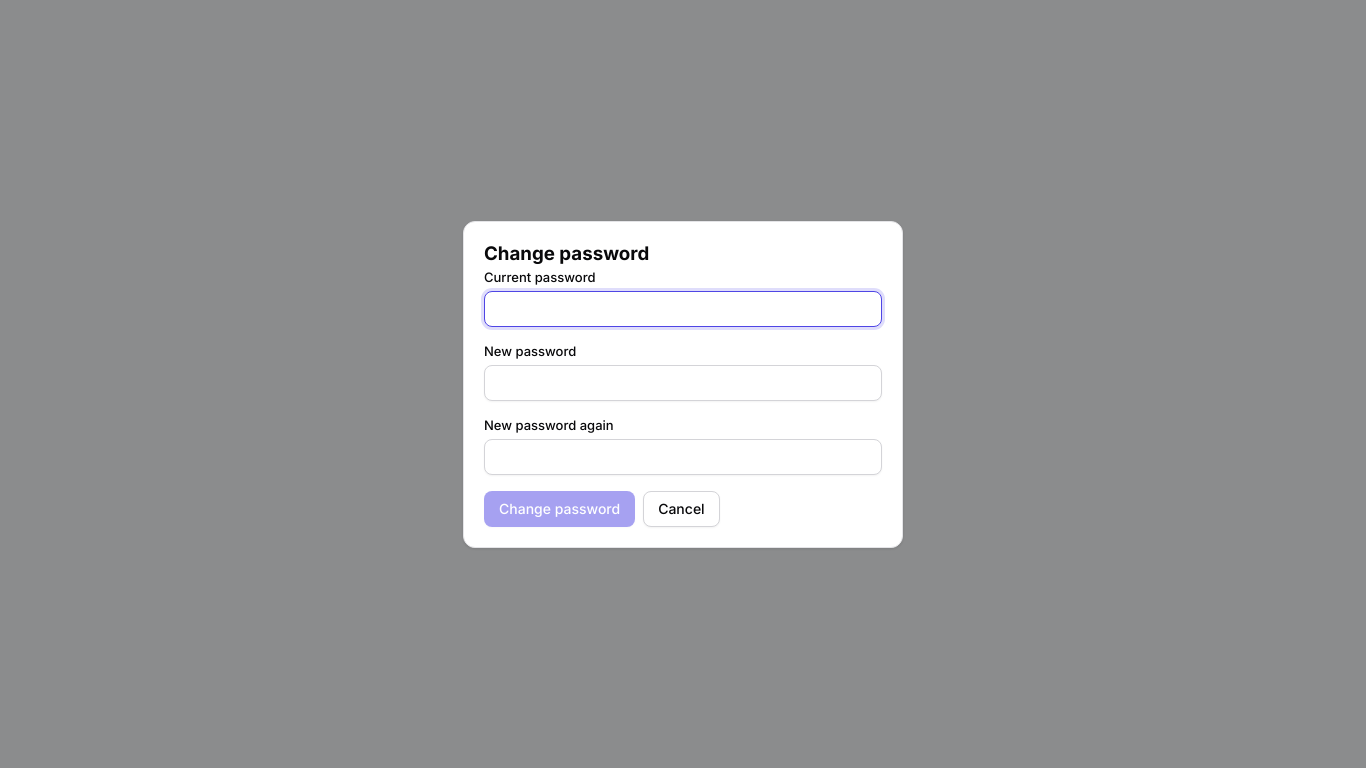
a wrong current password is shown and nothing else happens
The image size is (1366, 768).
Type "old-password-1" into the password field labelled "Current password" at {"x": 683, "y": 308}, box [484,290,882,326]
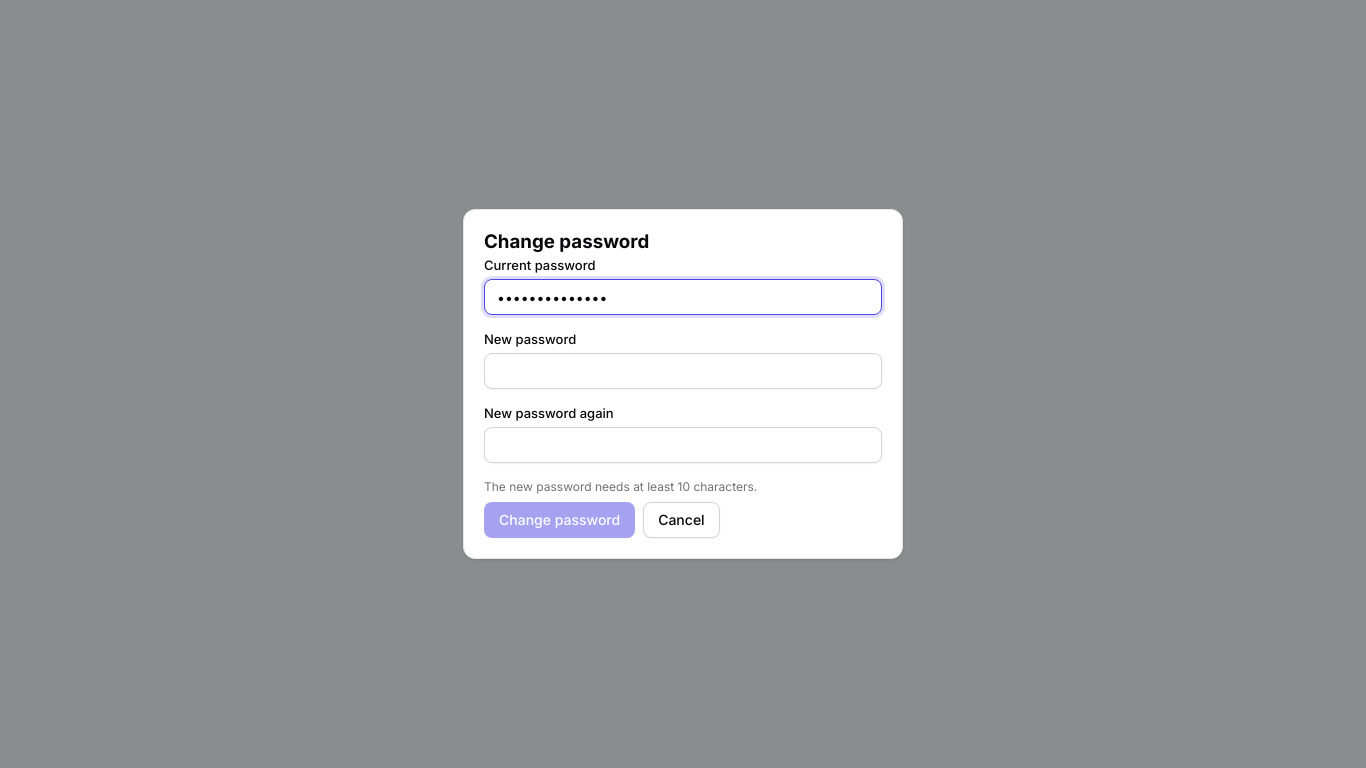
Type "new-password-1" into the password field labelled "New password" at {"x": 683, "y": 371}, box [484,353,882,389]
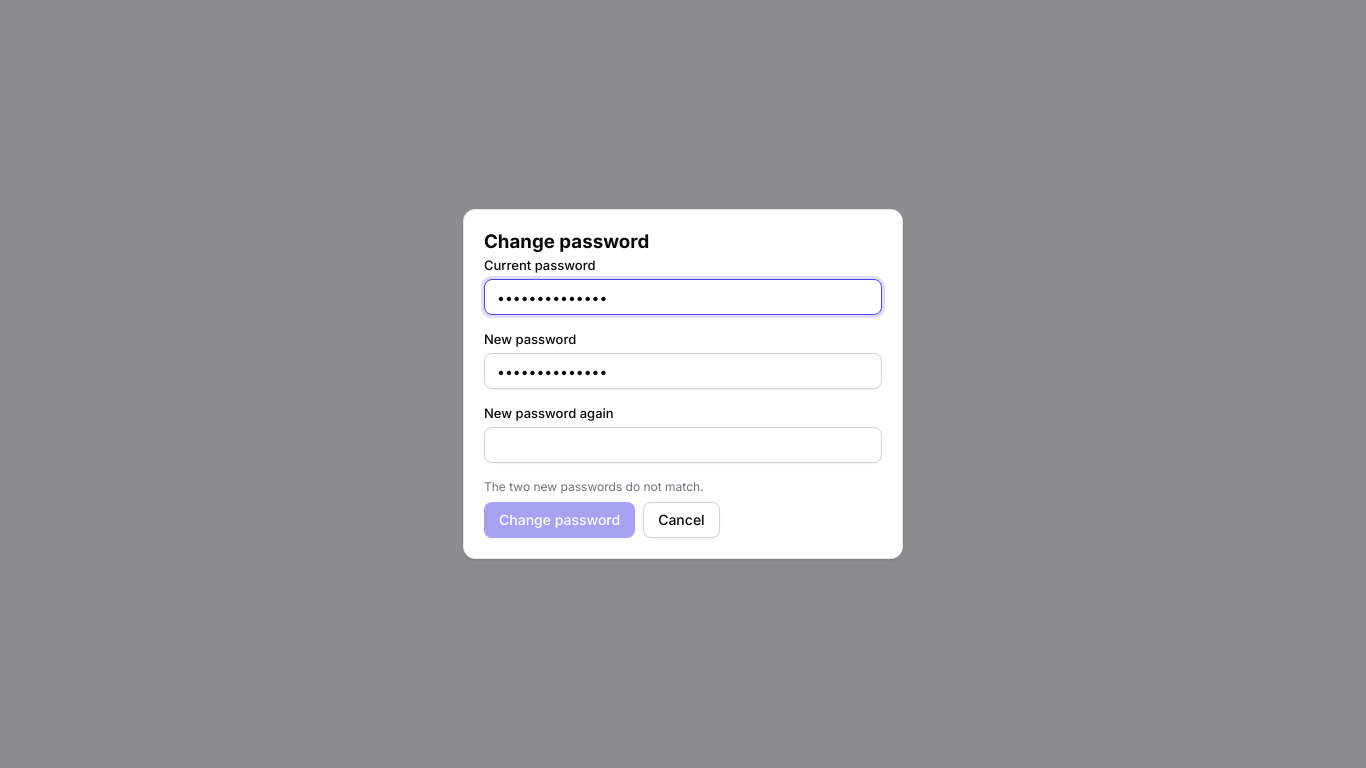
Type "new-password-1" into the password field labelled "New password again" at {"x": 683, "y": 445}, box [484,427,882,463]
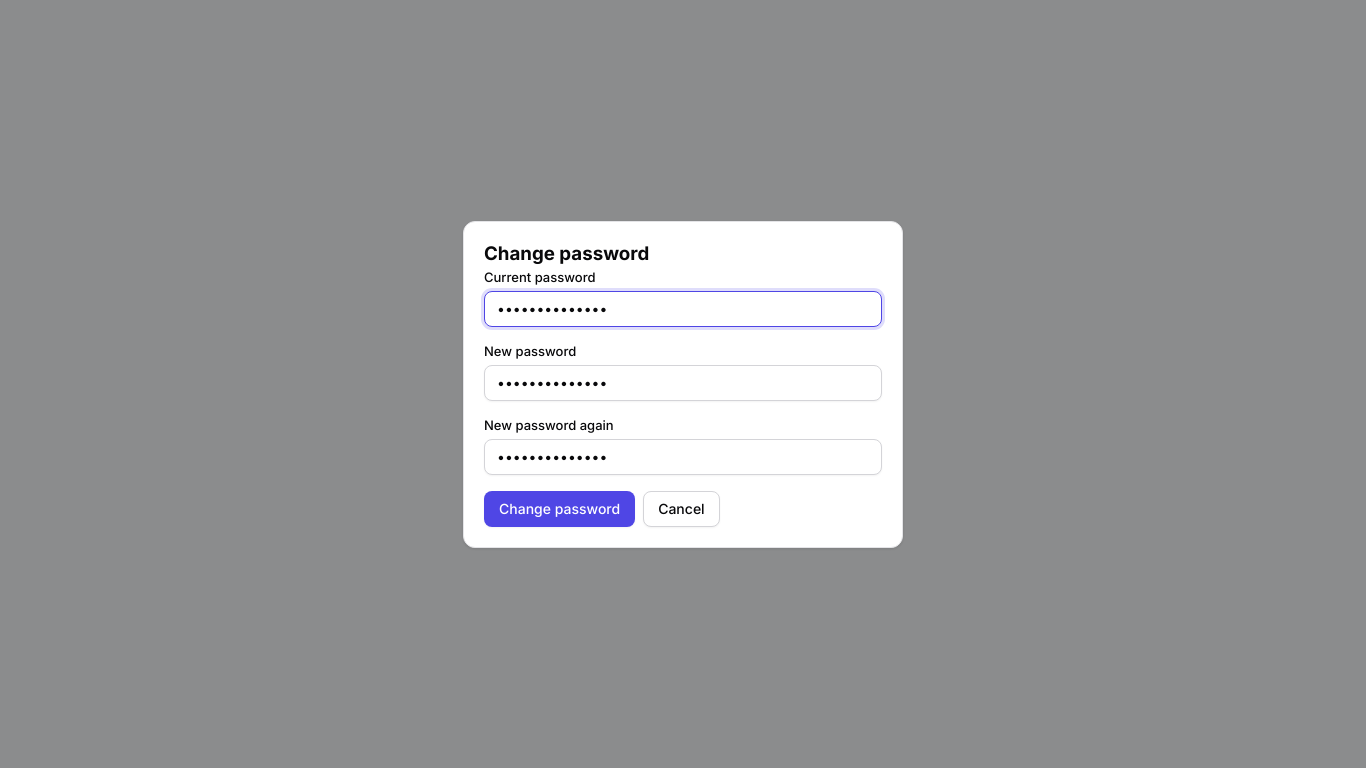
Click the button "Change password" at {"x": 560, "y": 508}, box [484,490,635,526]
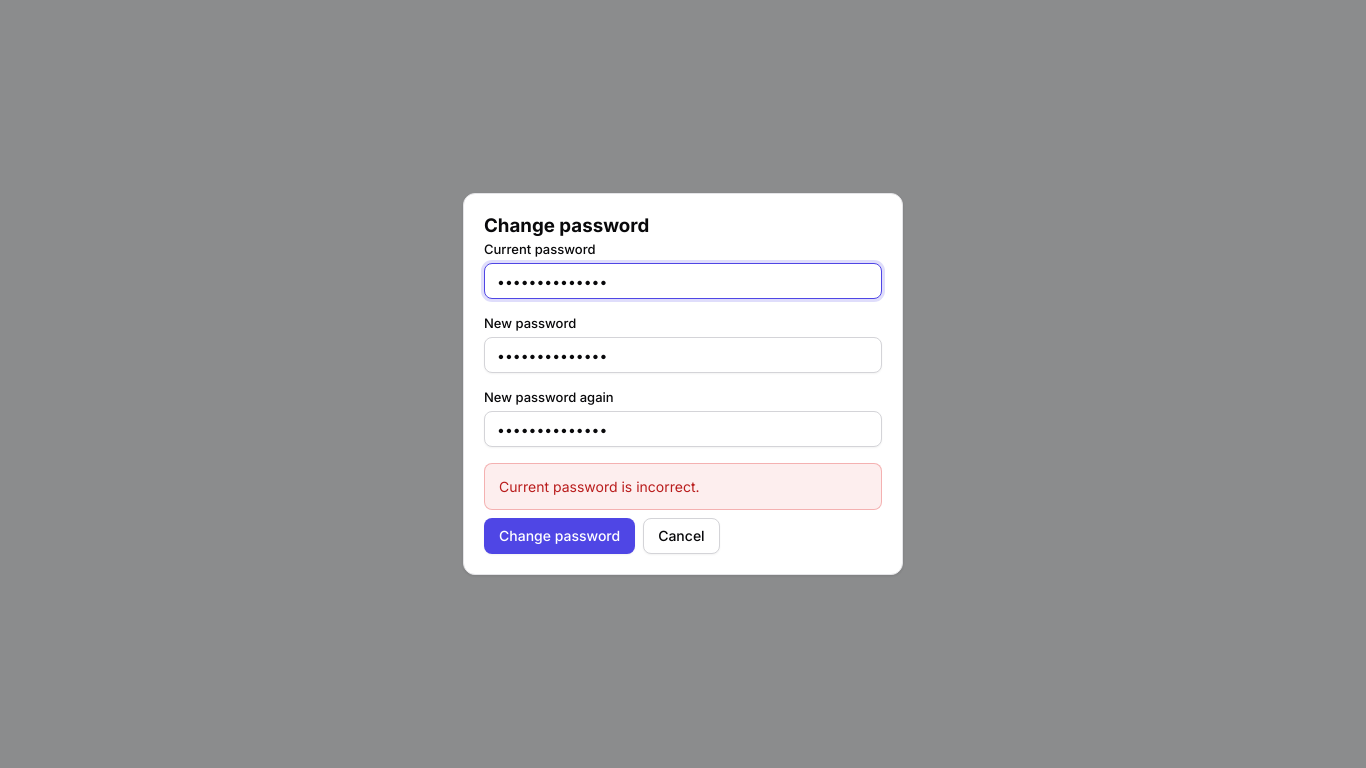
Now the text "Current password is incorrect." is shown, box [484,463,882,510]
